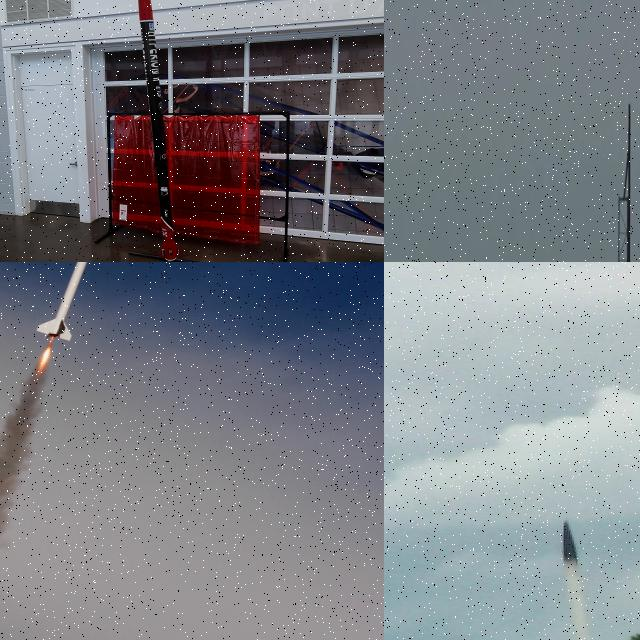Rocket: (138, 0, 183, 260), (558, 519, 606, 640), (36, 262, 104, 341)
